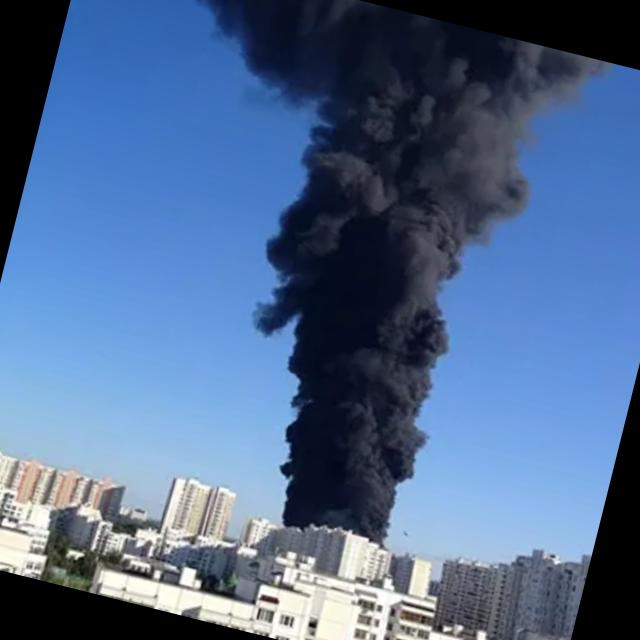Smoke: (40, 0, 604, 569)
